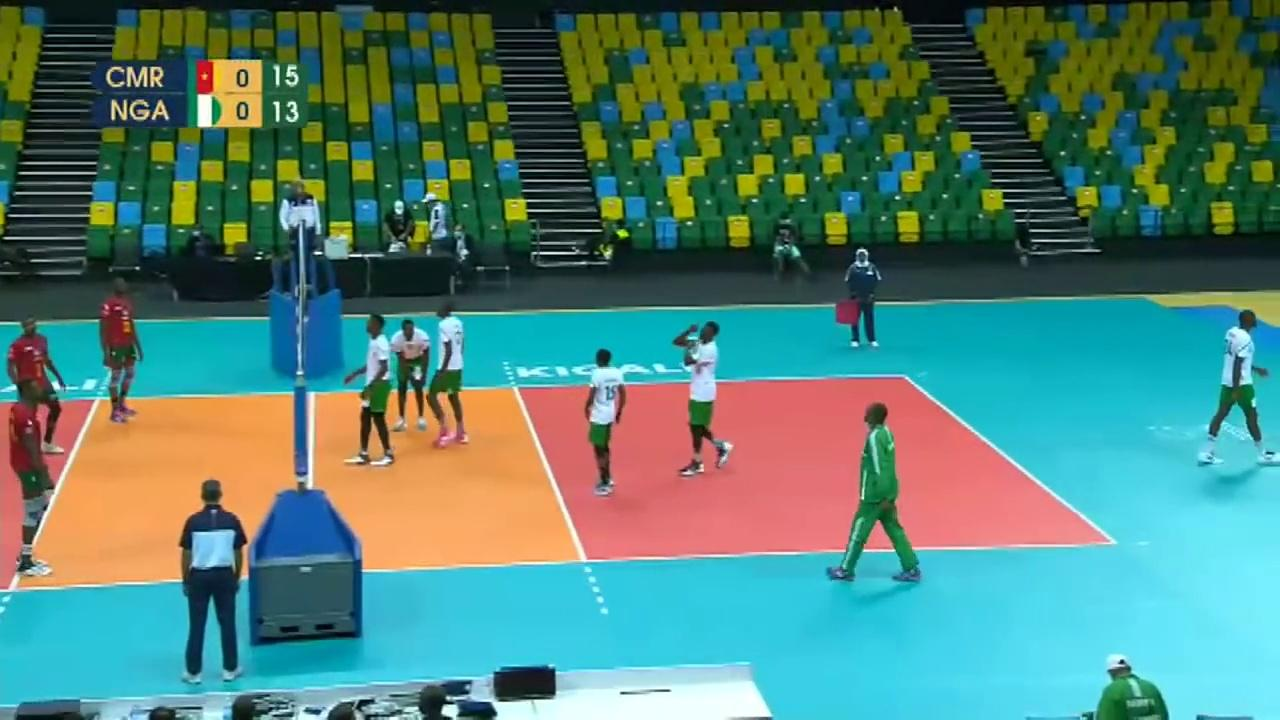player: (4, 379, 64, 584), (1200, 309, 1272, 465), (4, 310, 78, 456), (348, 320, 402, 462), (676, 326, 727, 474), (97, 281, 143, 421), (581, 349, 625, 492), (427, 303, 468, 444), (390, 311, 434, 433)
refree: (174, 475, 252, 690), (274, 172, 328, 282), (843, 246, 885, 347)
